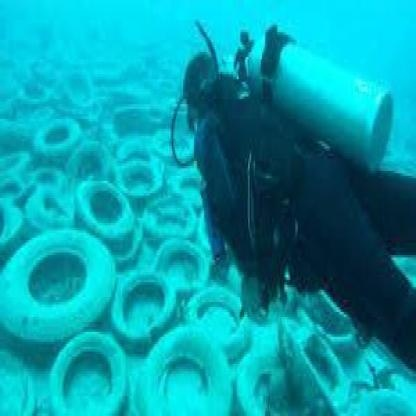tire: (9, 203, 110, 319), (133, 327, 237, 416), (71, 139, 143, 250), (61, 324, 139, 416), (182, 282, 258, 369), (154, 235, 226, 312), (286, 327, 350, 411), (32, 92, 87, 176), (108, 280, 176, 346), (113, 151, 174, 213)
